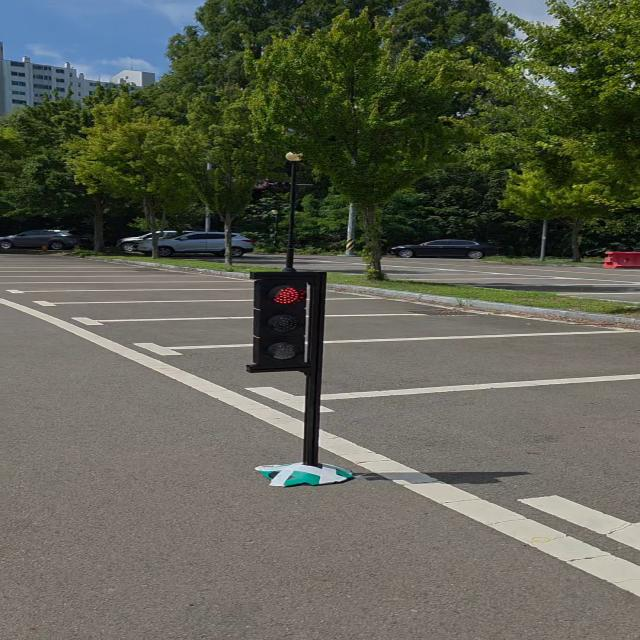red: (247, 269, 328, 377)
